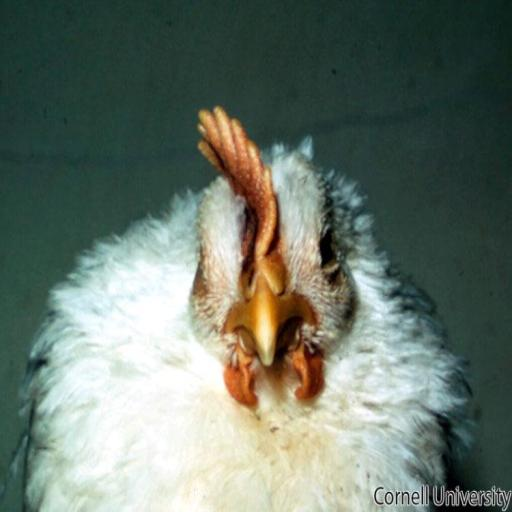disease: (291, 183, 361, 304), (176, 232, 228, 313)
